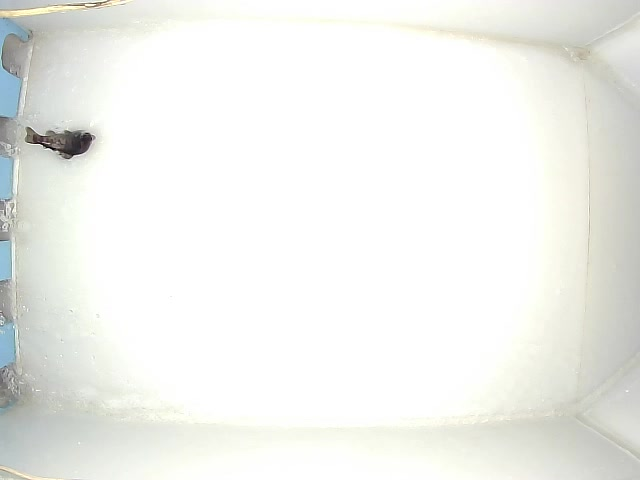fish: (24, 126, 96, 159)
